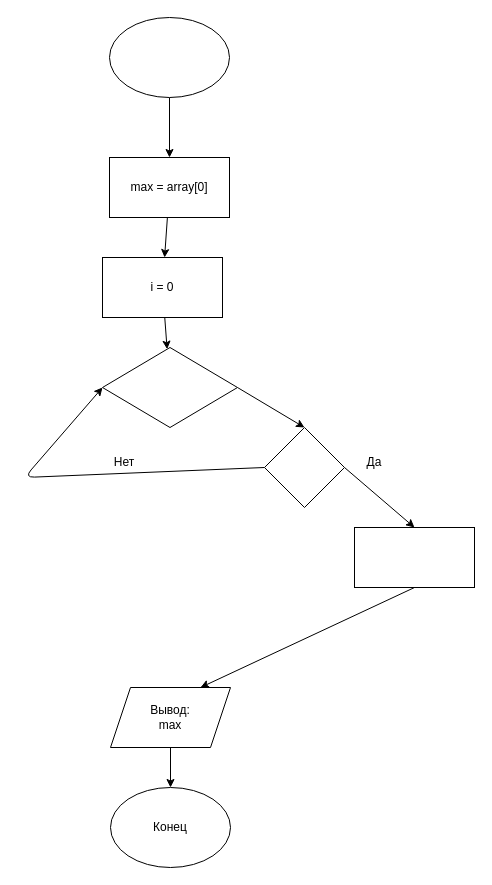
The diagram is 492 pixels wide and 885 high, and some of its shapes have lost their labels. The centre of each missing label's shape, as x and y in pixels:
array[i] > max?: point 304,467
i <=lenght(array): point 170,387
Начало: point 169,57
